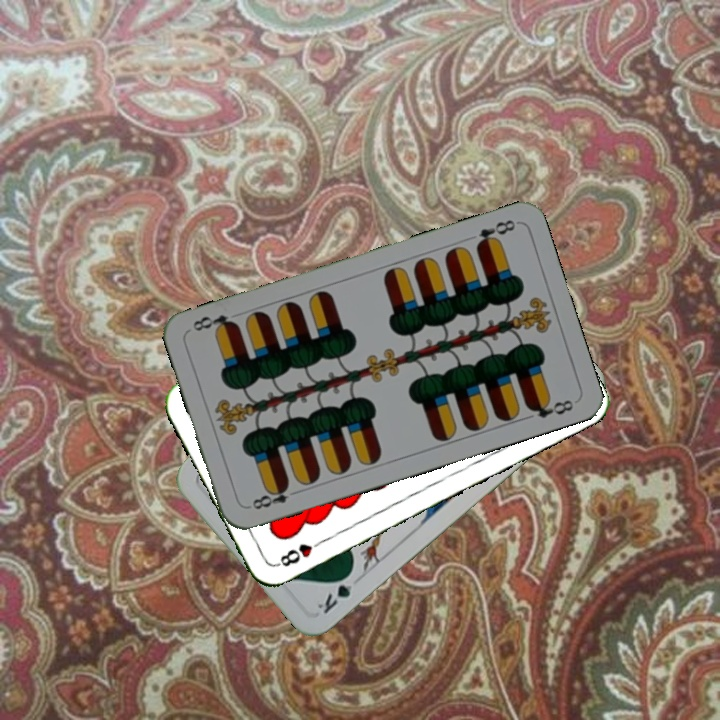E8: (244, 480, 302, 512), (472, 215, 518, 251)
GK: (313, 567, 356, 617)
H8: (272, 535, 327, 570)
